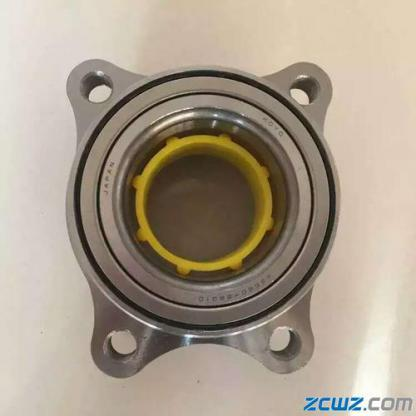FOD: (58, 54, 344, 383)
